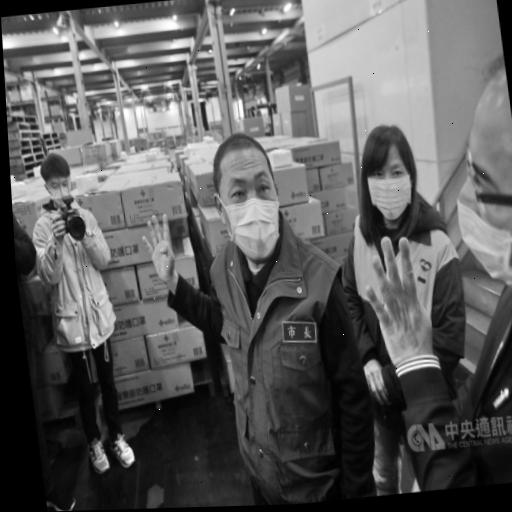mask: (434, 58, 512, 307), (200, 127, 287, 272), (350, 117, 423, 228), (35, 148, 79, 214)
